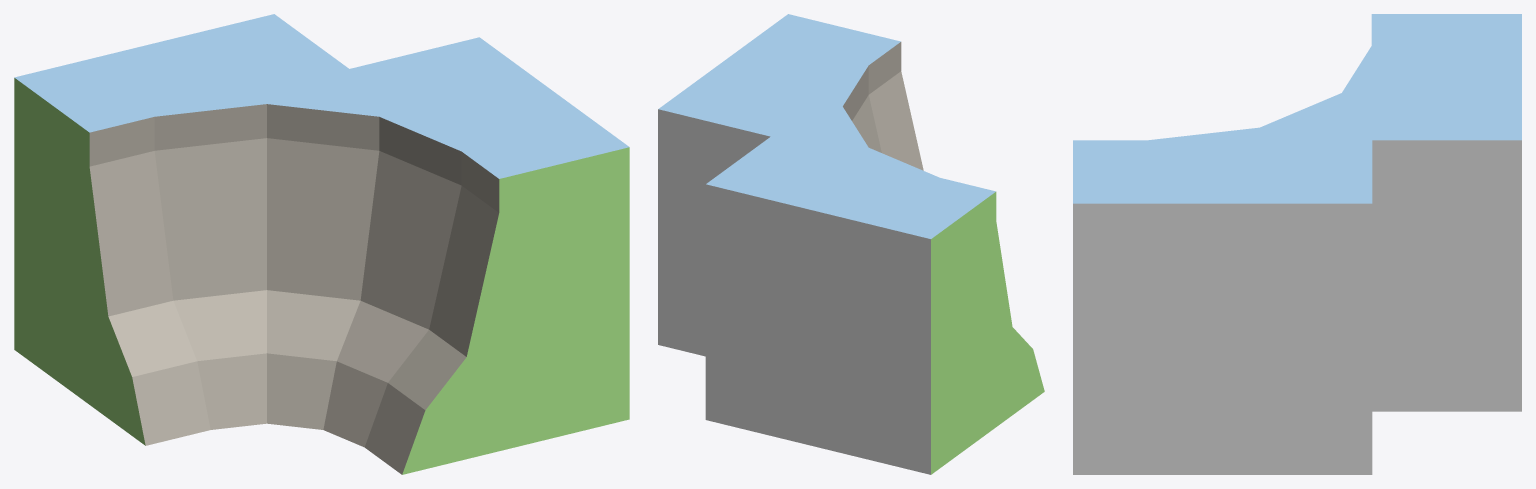
The model's file is Wall_Curve_Inner_3x3_Base.glb.
The picture shows the model from 3 angles, left to right: view 1: azimuth 30°, elevation 25°; view 2: azimuth 150°, elevation 25°; view 3: azimuth 270°, elevation 25°; orthographic projection. The views are drawn at different scales.
Parts seen in each view (by area): view 1: Wall_Curve_Inner_3x3_Base; view 2: Wall_Curve_Inner_3x3_Base; view 3: Wall_Curve_Inner_3x3_Base.
Part boxes in pixels (bbox=[...]): Wall_Curve_Inner_3x3_Base: bbox=[14, 14, 629, 474]; Wall_Curve_Inner_3x3_Base: bbox=[658, 14, 1044, 474]; Wall_Curve_Inner_3x3_Base: bbox=[1073, 14, 1521, 474].
Bounding box in the file's own units: 300 × 200 × 300.
